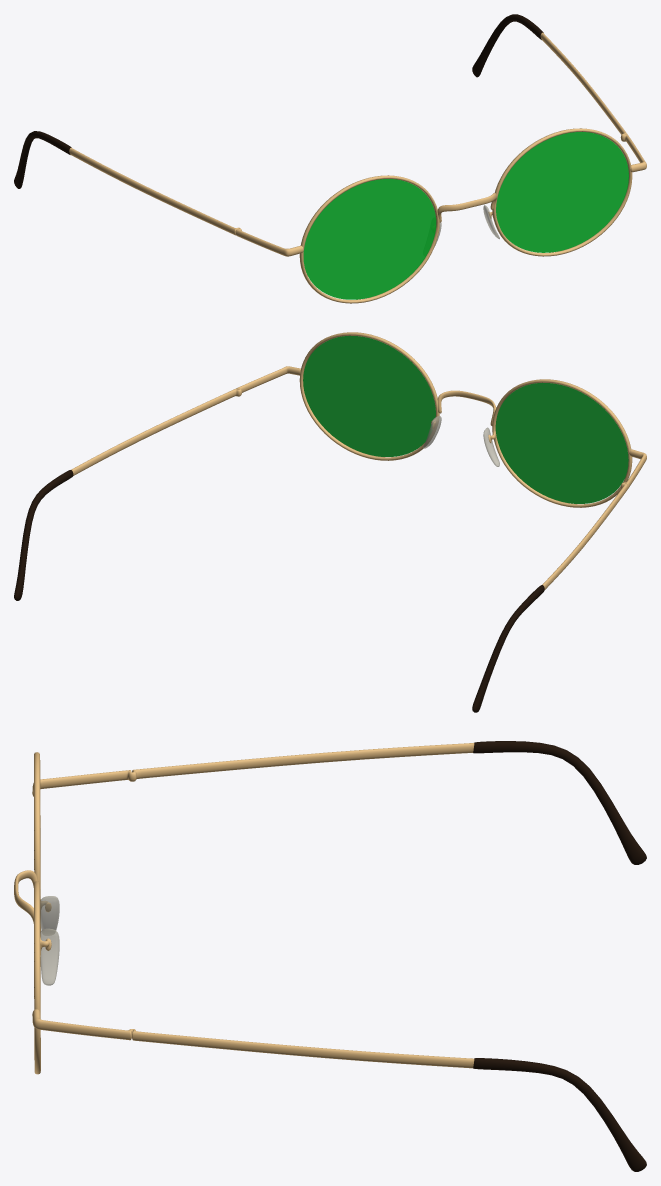
Rendered from green_round_sunglasses.glb.
The picture shows the model from 3 angles, top to bottom: view 1: azimuth 30°, elevation 25°; view 2: azimuth 150°, elevation 25°; view 3: azimuth 270°, elevation 25°; orthographic projection. The views are drawn at different scales.
Parts seen in each view (by area): view 1: Cylinder.005, Cube.005, Cylinder.004; view 2: Cylinder.005, Cube.005, Cylinder.004, Cylinder.006; view 3: Cube.005, Cylinder.004, Cylinder.006.
Boxes of the visible parts, x1,y1,x2,y2 form: Cylinder.005: [303, 132, 628, 299]; Cube.005: [14, 14, 646, 256]; Cylinder.004: [299, 128, 632, 303]; Cylinder.005: [303, 335, 628, 503]; Cube.005: [14, 366, 646, 712]; Cylinder.004: [299, 332, 632, 507]; Cylinder.006: [423, 416, 499, 466]; Cube.005: [14, 741, 646, 1171]; Cylinder.004: [34, 752, 51, 1074]; Cylinder.006: [40, 896, 59, 985].
Size of the model in its own units: 1.48 by 0.4056 by 1.23.
